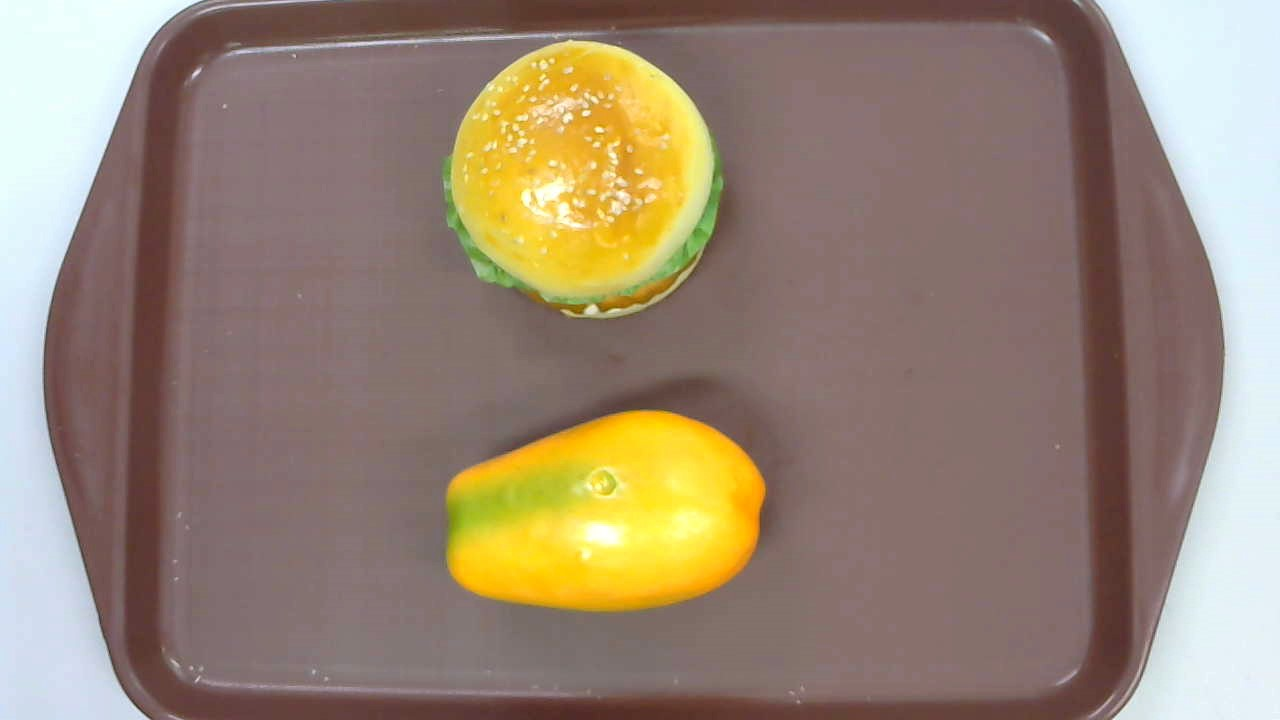hamburger: (443, 41, 725, 320)
papya: (444, 409, 766, 613)
